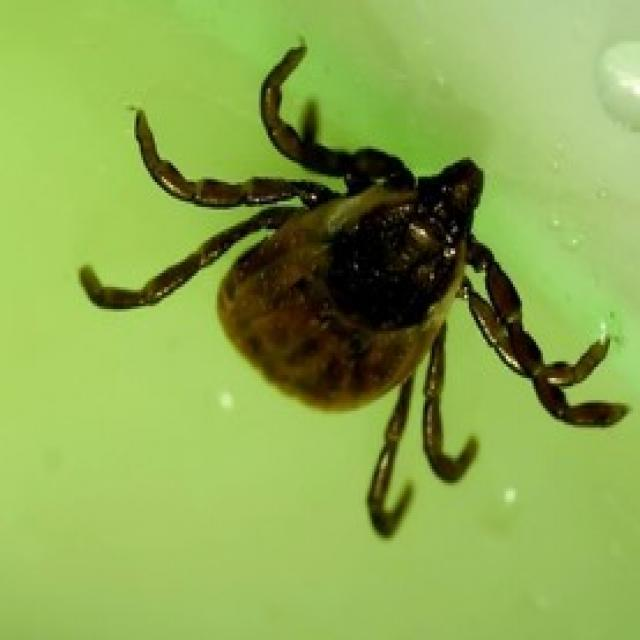Rhipicephalus Sanguineus-F: (79, 44, 628, 538)
